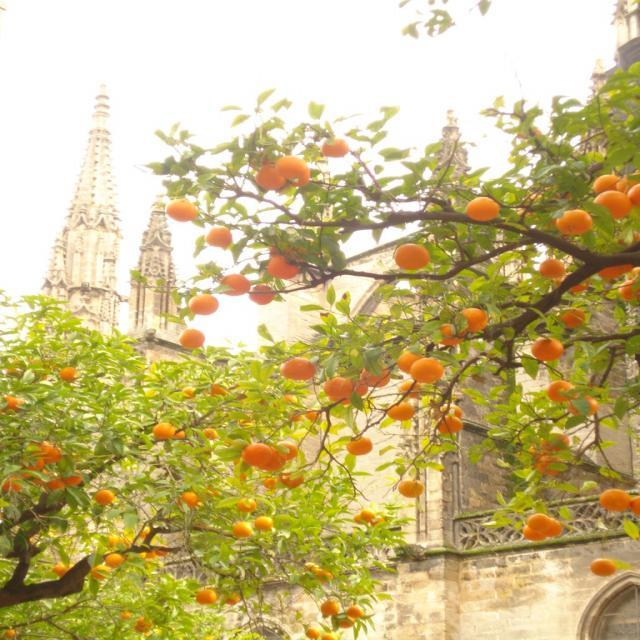Orange: (254, 157, 308, 197), (552, 209, 598, 241), (591, 188, 627, 228), (602, 487, 640, 519), (408, 357, 447, 385), (527, 331, 562, 361), (521, 518, 562, 542), (268, 250, 300, 278), (243, 441, 268, 476), (466, 195, 501, 220), (193, 292, 221, 320), (455, 311, 483, 339), (396, 243, 434, 263), (329, 377, 360, 401), (167, 198, 195, 224), (272, 443, 298, 469), (552, 382, 576, 410), (348, 437, 374, 462), (290, 358, 322, 378), (176, 485, 195, 517), (346, 607, 370, 631), (36, 444, 62, 466), (403, 348, 431, 368), (622, 180, 640, 210), (211, 223, 235, 245), (224, 276, 248, 298), (234, 521, 258, 543), (195, 587, 221, 607), (18, 459, 42, 479), (181, 323, 202, 345), (252, 286, 272, 308), (591, 174, 617, 190), (97, 483, 111, 509), (318, 598, 334, 620), (316, 144, 351, 154), (596, 556, 618, 571), (243, 498, 259, 516), (255, 513, 274, 528), (405, 480, 417, 499), (582, 398, 596, 414), (44, 472, 55, 492), (49, 564, 63, 578), (103, 554, 119, 564), (632, 498, 640, 518), (68, 476, 72, 483)
